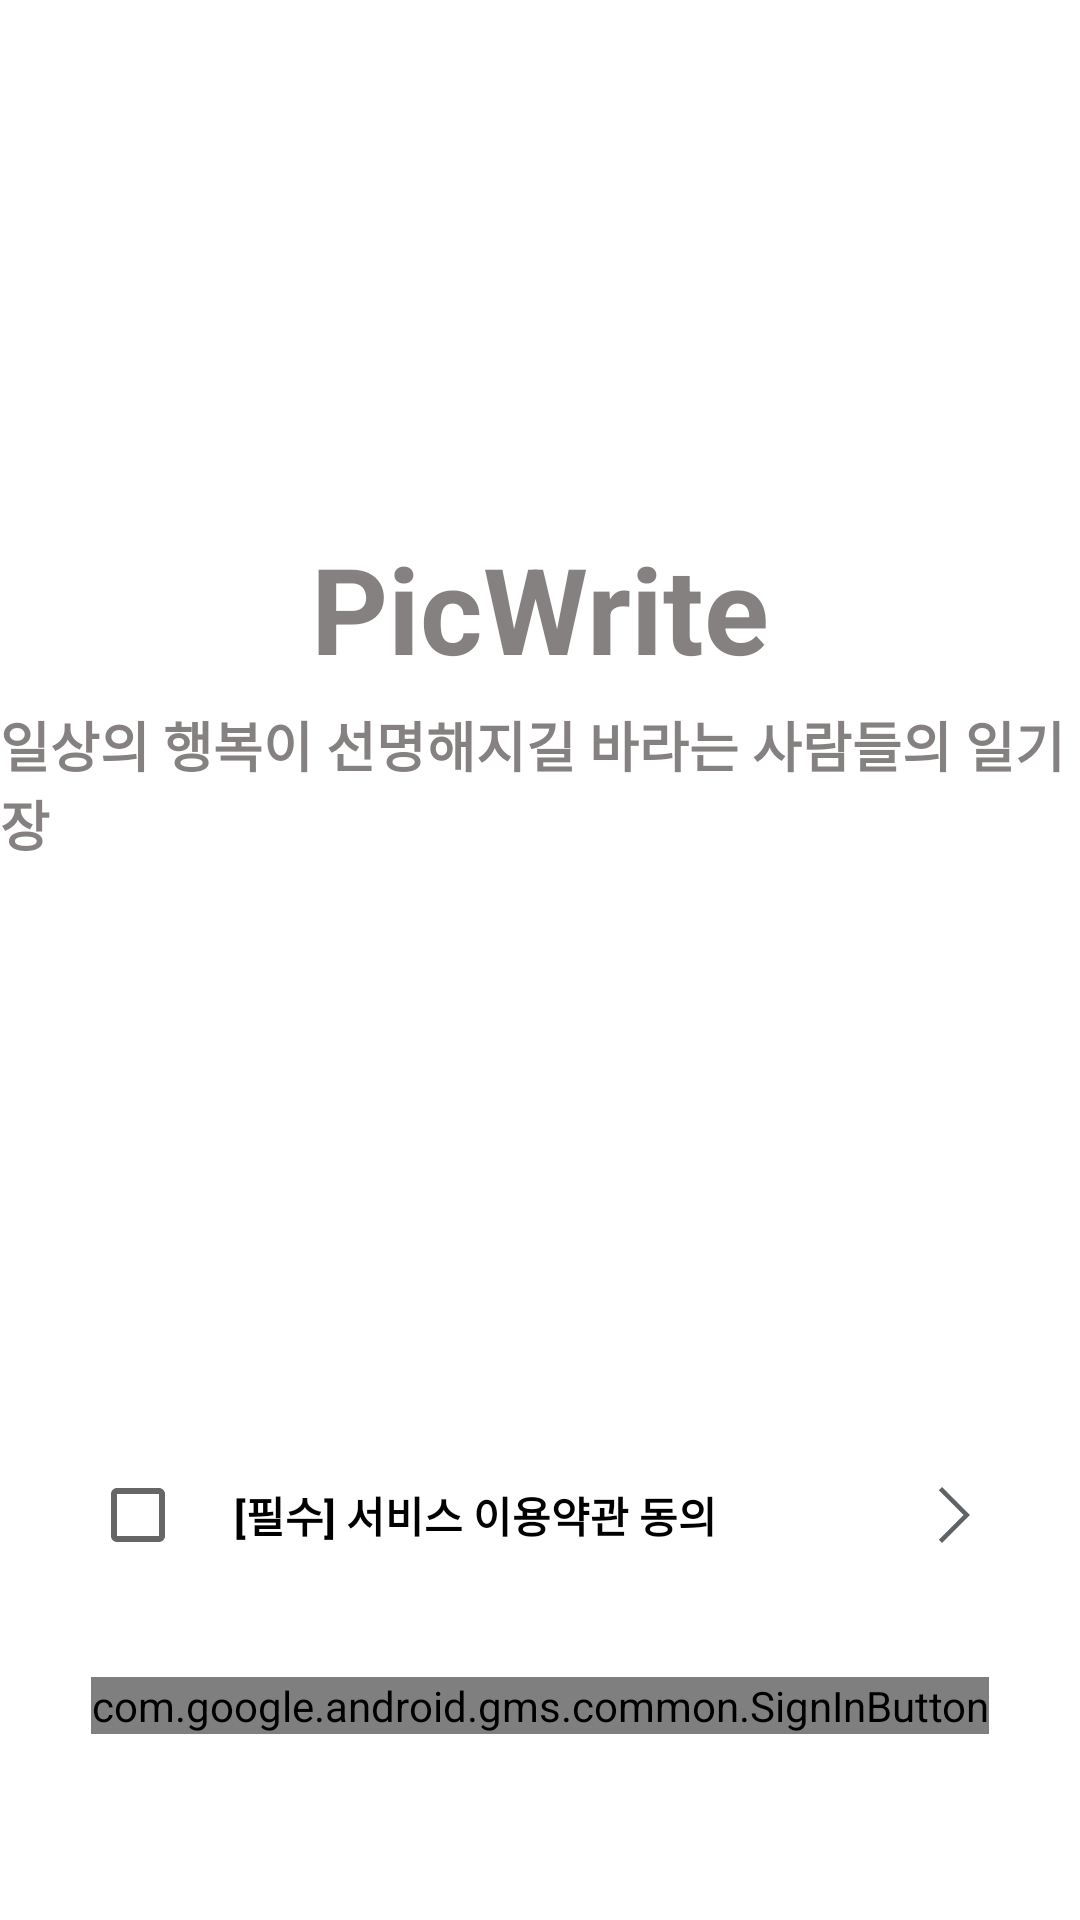

Icons on this 1080*1920 Android screen, each with its box as (x1, y1, x2, y2):
arrow forward: (939, 1487, 970, 1543)
